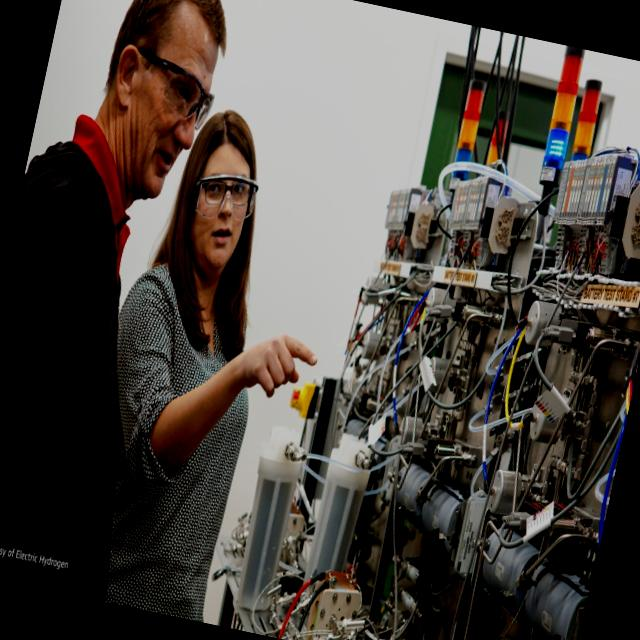goggles: (127, 28, 229, 134), (192, 163, 263, 222)
no-helmet: (99, 0, 250, 92), (188, 92, 274, 180)
